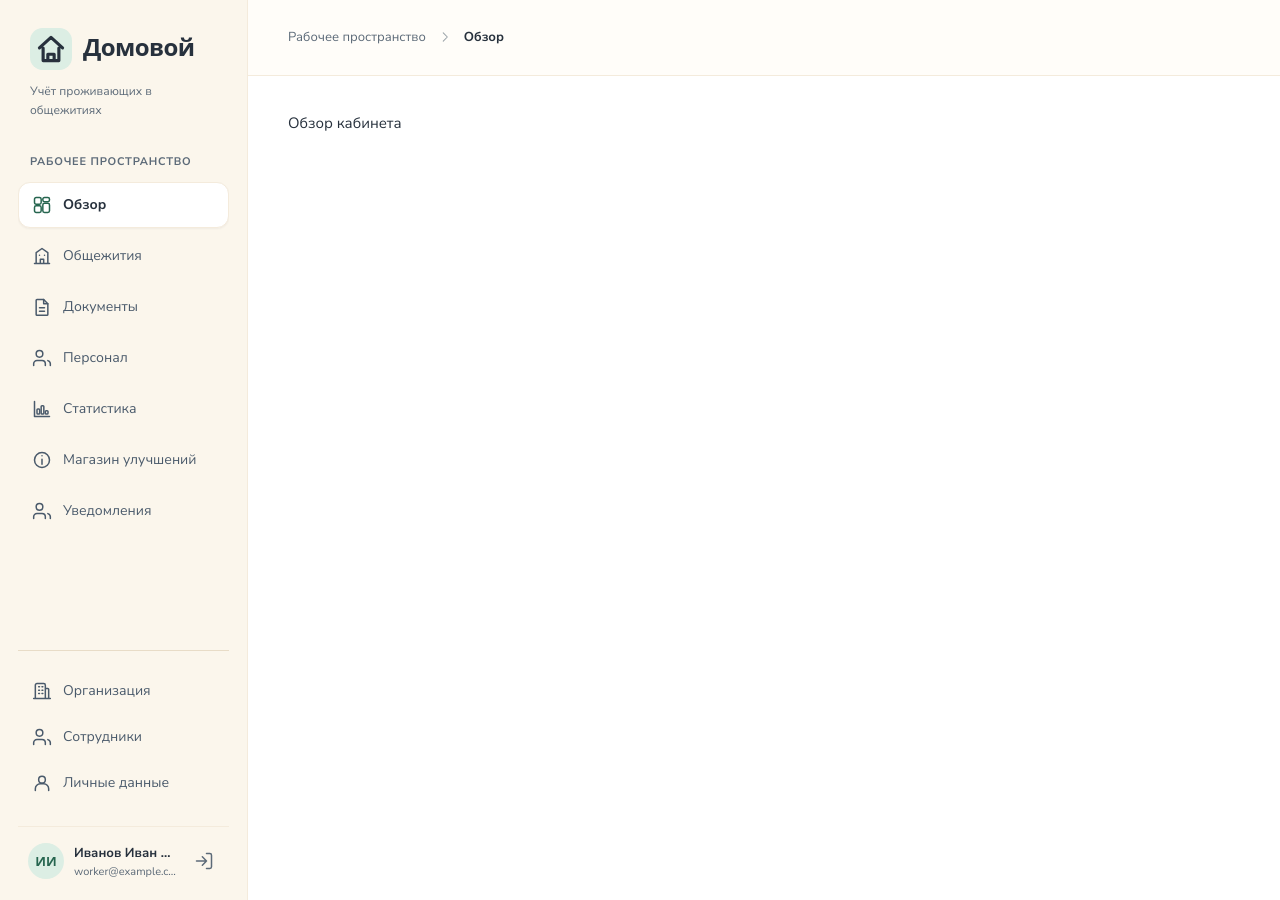
пункт меню «Уведомления» › появляется при действующем праве организации и ведёт на свой адрес
Click the link with test id "workspace-nav-notifications".
click(92, 511)  # box [32, 501, 152, 521]
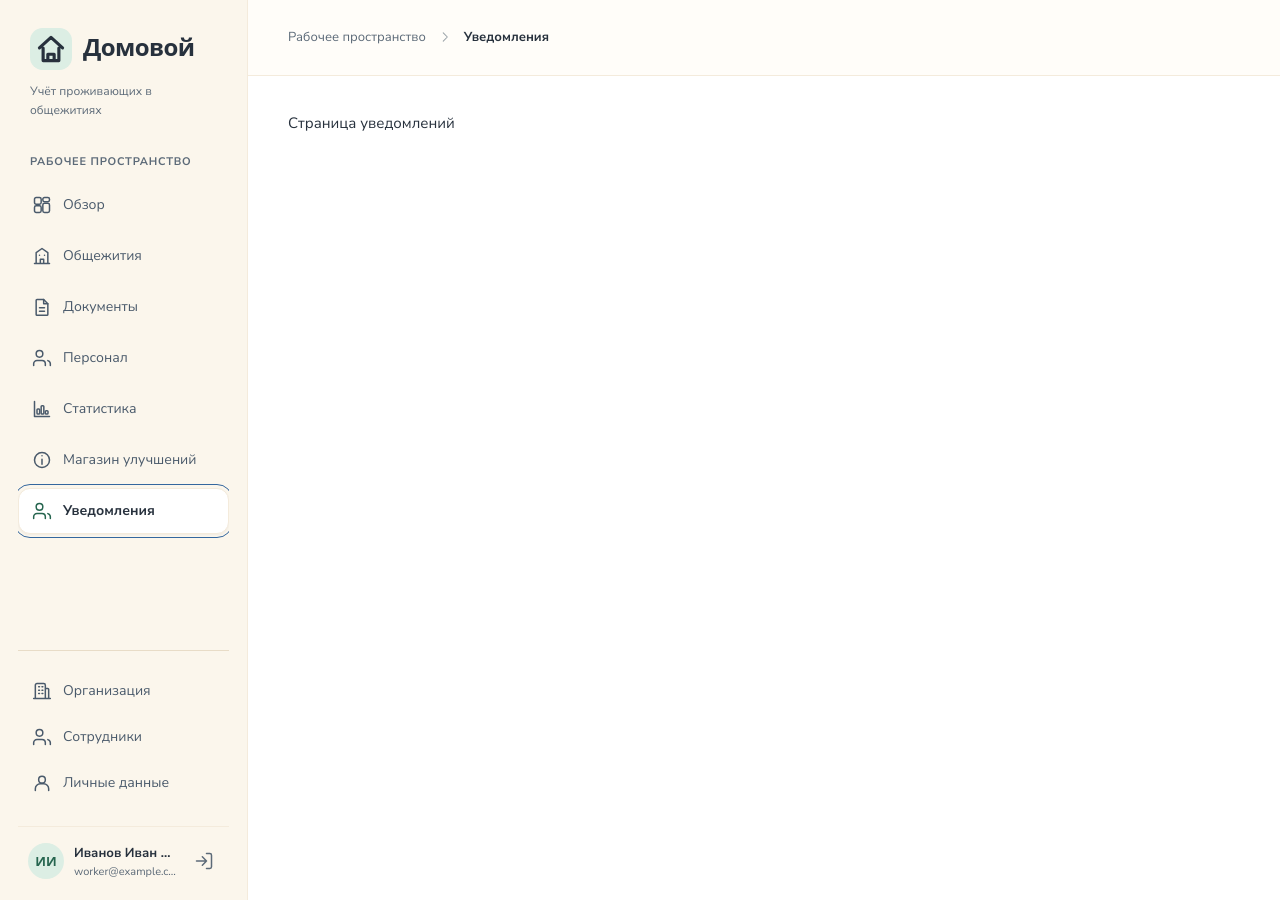
Expected: the text "Страница уведомлений" is shown, [288, 113, 455, 133]
